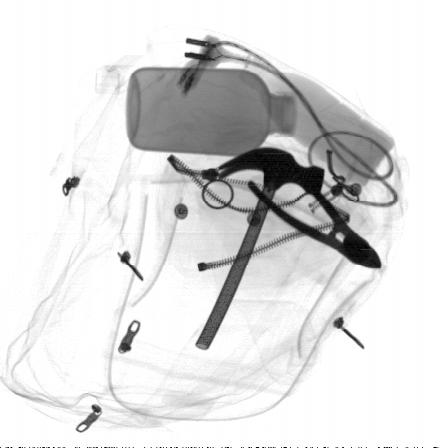Hammer: (196, 147, 325, 351)
Pliers: (248, 158, 381, 270)
